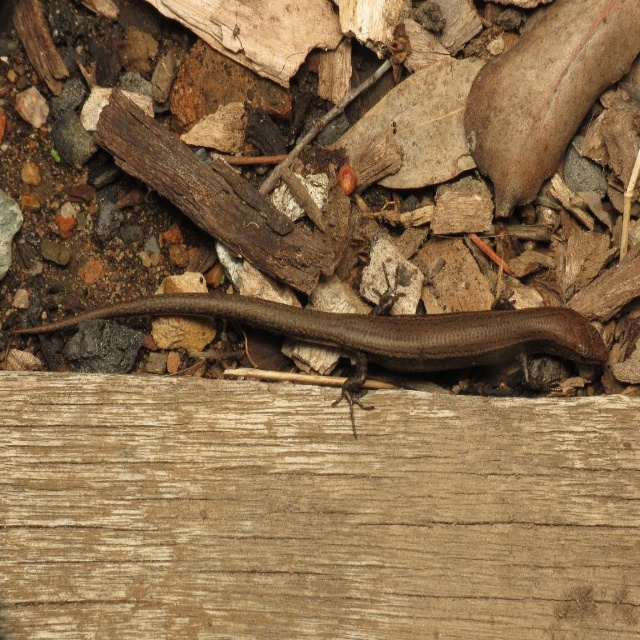Lizard: (45, 271, 640, 430)
